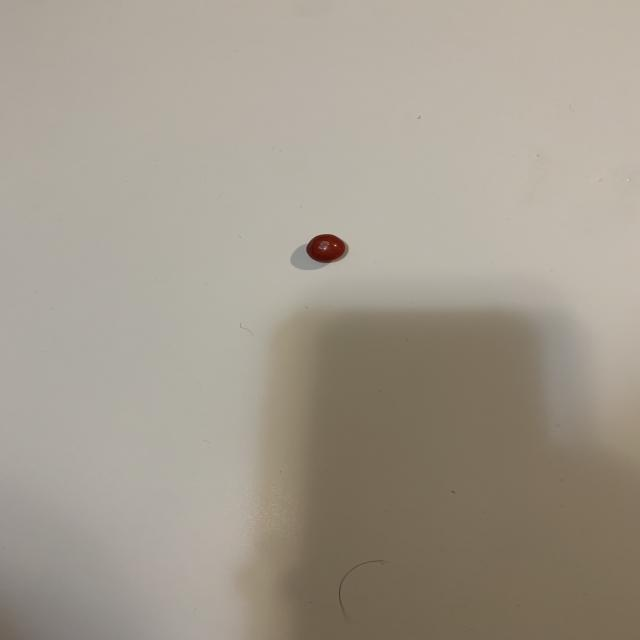smartie: (306, 234, 346, 262)
